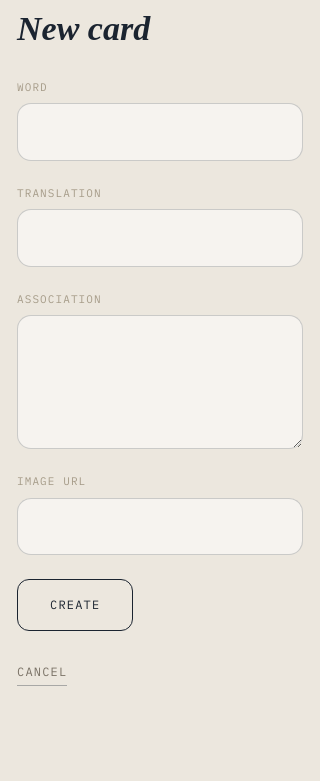
it: NewCardView › clears a stale validation message once the field is filled in and resubmitted
Submit the form
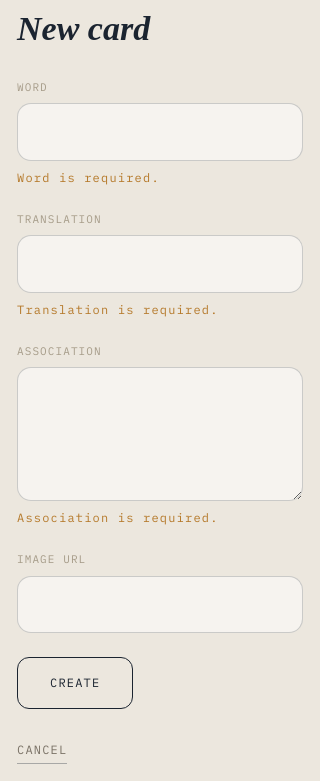
Expected: the text "Word is required." is shown, [17,170,160,185]
Type "Katze" into the field with id "word" at (160, 132), box [17,103,303,161]
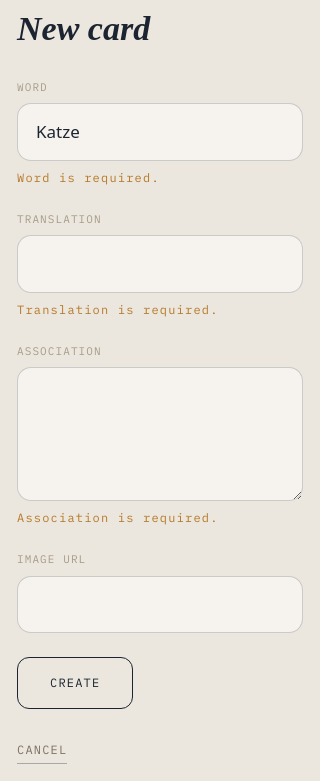
Type "cat" into the field with id "translation" at (160, 264), box [17,235,303,293]
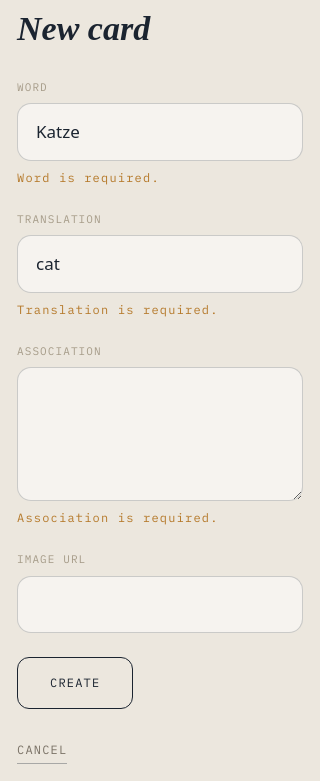
Type "a cat sounds like \"katze\"" into the text box with id "association" at (160, 434), box [17,367,303,501]
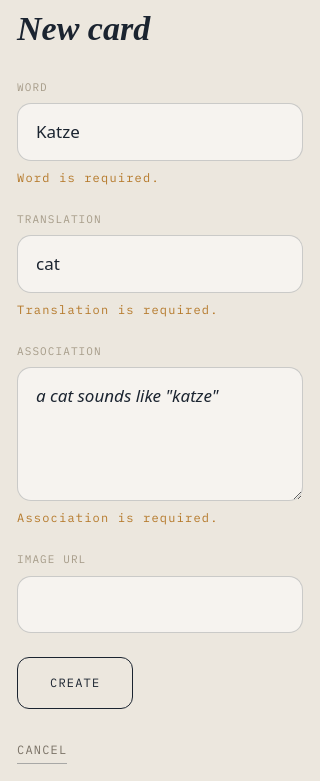
Submit the form
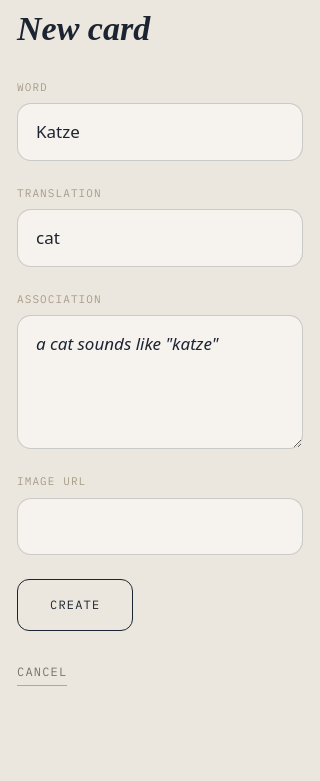
Expected: the text "Word is required." is gone
